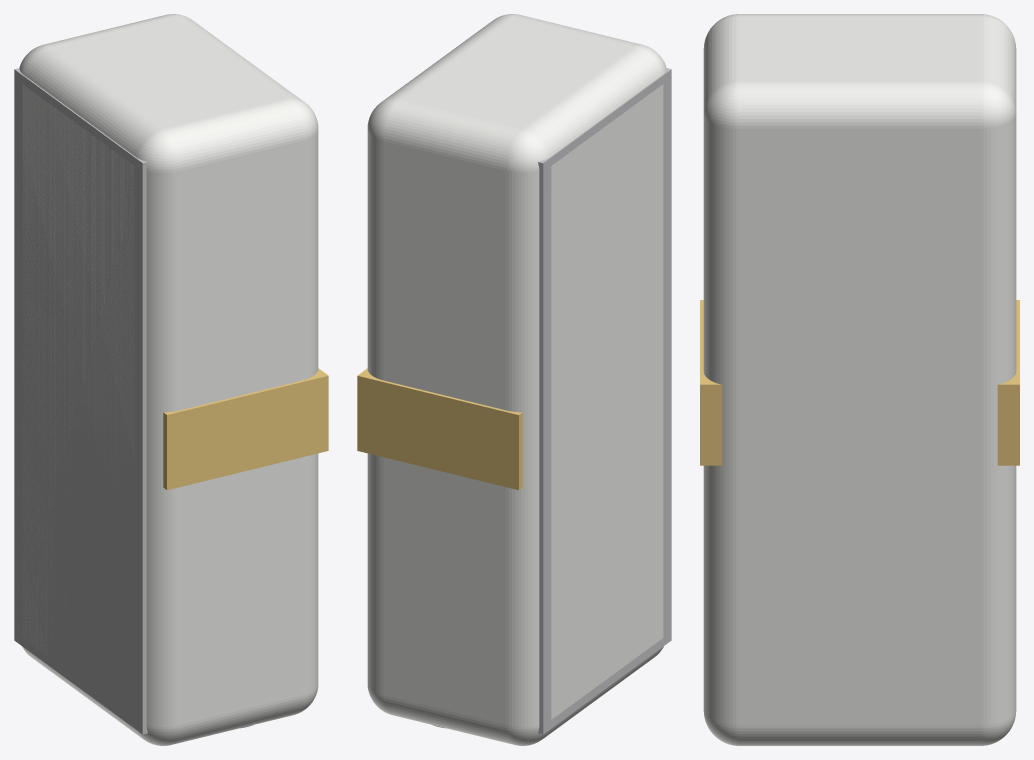
File: prop22_ullage_motor_pack_ullage.glb
The picture shows the model from 3 angles, left to right: view 1: azimuth 30°, elevation 25°; view 2: azimuth 150°, elevation 25°; view 3: azimuth 270°, elevation 25°; orthographic projection. The views are drawn at different scales.
Parts seen in each view (by area): view 1: fairing, mount_plate, gold_band; view 2: fairing, mount_plate, gold_band; view 3: fairing, gold_band.
Boxes of the visible parts, box(x1,y1,x2,y2) form: fairing: box(19, 14, 318, 745); mount_plate: box(14, 68, 147, 734); gold_band: box(163, 368, 328, 490); fairing: box(367, 14, 666, 745); mount_plate: box(538, 68, 671, 734); gold_band: box(357, 368, 522, 490); fairing: box(703, 14, 1016, 745); gold_band: box(700, 300, 1019, 465).
Size of the model in its own units: 0.25 by 0.8285 by 0.358.
